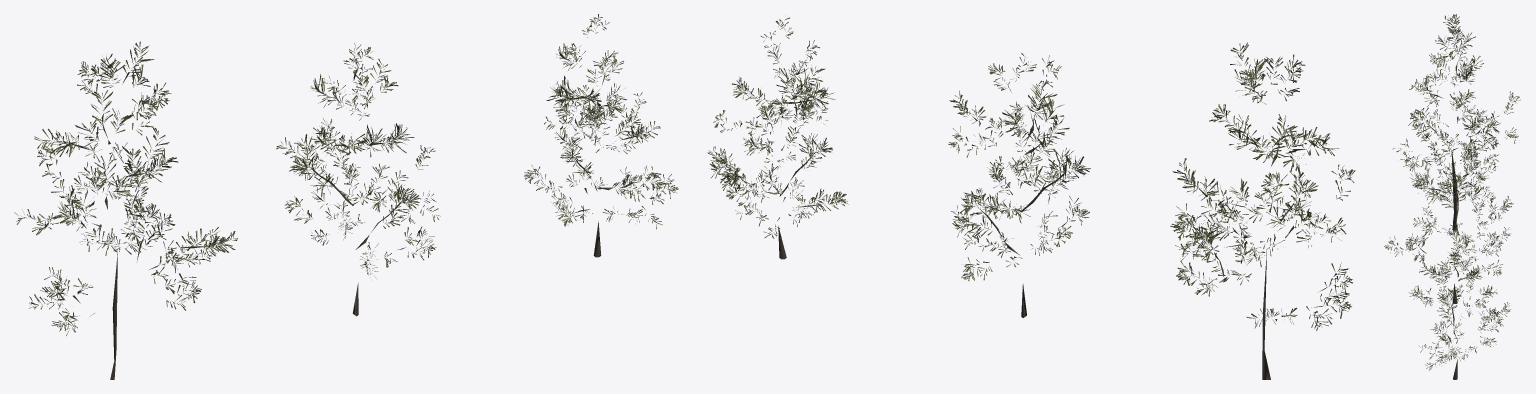
File: pine-sapling-small-lod1.glb
3 views of the same model, side by side, from view 1: azimuth 30°, elevation 25°; view 2: azimuth 150°, elevation 25°; view 3: azimuth 270°, elevation 25° (orthographic). The views are drawn at different scales.
Visible parts, largest first — view 1: pine_sapling_small_a, pine_sapling_small_b, pine_sapling_small_c; view 2: pine_sapling_small_a, pine_sapling_small_b, pine_sapling_small_c; view 3: pine_sapling_small_a, pine_sapling_small_b, pine_sapling_small_c.
Part boxes in pixels (left/top/right/bottom): pine_sapling_small_a: left=14, top=41, right=237, bottom=379; pine_sapling_small_b: left=276, top=43, right=440, bottom=316; pine_sapling_small_c: left=524, top=14, right=678, bottom=257; pine_sapling_small_a: left=1170, top=42, right=1355, bottom=379; pine_sapling_small_b: left=948, top=53, right=1090, bottom=317; pine_sapling_small_c: left=707, top=17, right=848, bottom=259; pine_sapling_small_a: left=1393, top=14, right=1520, bottom=230; pine_sapling_small_b: left=1384, top=134, right=1513, bottom=303; pine_sapling_small_c: left=1409, top=224, right=1510, bottom=379.
Bounding box in the file's own units: 2.64 × 1.3 × 0.7664.
Materials: 2 (2 with a texture image).
